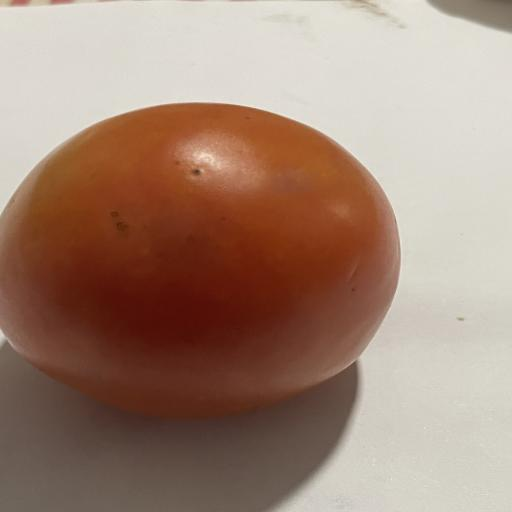ripe: (0, 103, 400, 417)
